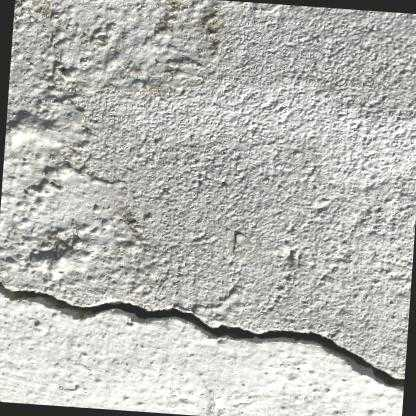crack: (0, 280, 405, 391)
